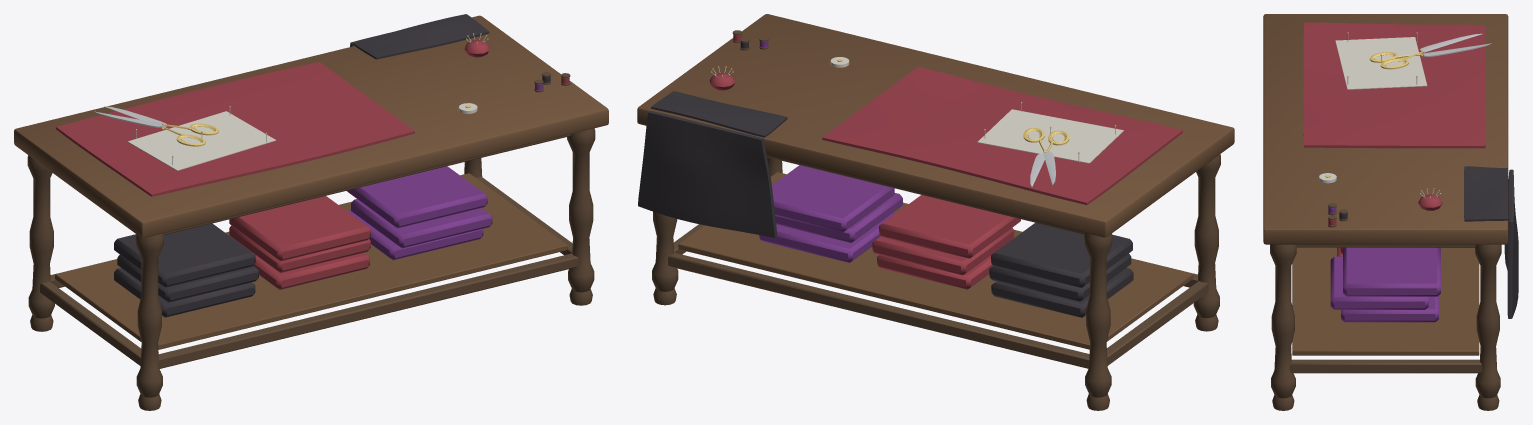
File: gu_tavolo_sarto.fbx
3 views of the same model, side by side, from view 1: azimuth 30°, elevation 25°; view 2: azimuth 150°, elevation 25°; view 3: azimuth 270°, elevation 25° (orthographic). The views are drawn at different scales.
Parts seen in each view (by area): view 1: gu_tavolo_sarto_noce, gu_tavolo_sarto_tessuto, gu_tavolo_sarto_legno, gu_tavolo_sarto_panno, gu_tavolo_sarto_seta, gu_tavolo_sarto_lenzuolo, gu_tavolo_sarto_acciaio, gu_tavolo_sarto_oro; view 2: gu_tavolo_sarto_noce, gu_tavolo_sarto_tessuto, gu_tavolo_sarto_panno, gu_tavolo_sarto_legno, gu_tavolo_sarto_seta, gu_tavolo_sarto_lenzuolo, gu_tavolo_sarto_acciaio, gu_tavolo_sarto_oro; view 3: gu_tavolo_sarto_noce, gu_tavolo_sarto_tessuto, gu_tavolo_sarto_legno, gu_tavolo_sarto_seta, gu_tavolo_sarto_panno, gu_tavolo_sarto_lenzuolo, gu_tavolo_sarto_acciaio, gu_tavolo_sarto_oro.
Boxes of the visible parts, bbox=[...] form: gu_tavolo_sarto_noce: bbox=[14, 15, 608, 349]; gu_tavolo_sarto_tessuto: bbox=[56, 39, 569, 289]; gu_tavolo_sarto_legno: bbox=[27, 72, 595, 410]; gu_tavolo_sarto_panno: bbox=[114, 14, 550, 317]; gu_tavolo_sarto_seta: bbox=[346, 84, 543, 260]; gu_tavolo_sarto_lenzuolo: bbox=[127, 103, 477, 170]; gu_tavolo_sarto_acciaio: bbox=[93, 34, 486, 164]; gu_tavolo_sarto_oro: bbox=[135, 33, 488, 157]; gu_tavolo_sarto_noce: bbox=[637, 14, 1234, 349]; gu_tavolo_sarto_tessuto: bbox=[709, 34, 1182, 289]; gu_tavolo_sarto_panno: bbox=[638, 42, 1133, 317]; gu_tavolo_sarto_legno: bbox=[652, 30, 1220, 410]; gu_tavolo_sarto_seta: bbox=[759, 41, 902, 262]; gu_tavolo_sarto_lenzuolo: bbox=[830, 57, 1123, 163]; gu_tavolo_sarto_acciaio: bbox=[712, 68, 1115, 186]; gu_tavolo_sarto_oro: bbox=[711, 59, 1116, 153]; gu_tavolo_sarto_noce: bbox=[1263, 14, 1508, 355]; gu_tavolo_sarto_tessuto: bbox=[1303, 22, 1485, 256]; gu_tavolo_sarto_legno: bbox=[1270, 203, 1501, 410]; gu_tavolo_sarto_seta: bbox=[1328, 207, 1440, 322]; gu_tavolo_sarto_panno: bbox=[1339, 166, 1518, 318]; gu_tavolo_sarto_lenzuolo: bbox=[1319, 37, 1427, 183]; gu_tavolo_sarto_acciaio: bbox=[1347, 33, 1491, 199]; gu_tavolo_sarto_oro: bbox=[1325, 32, 1441, 197].
Size of the model in its own units: 2.3 by 1 by 1.15.
